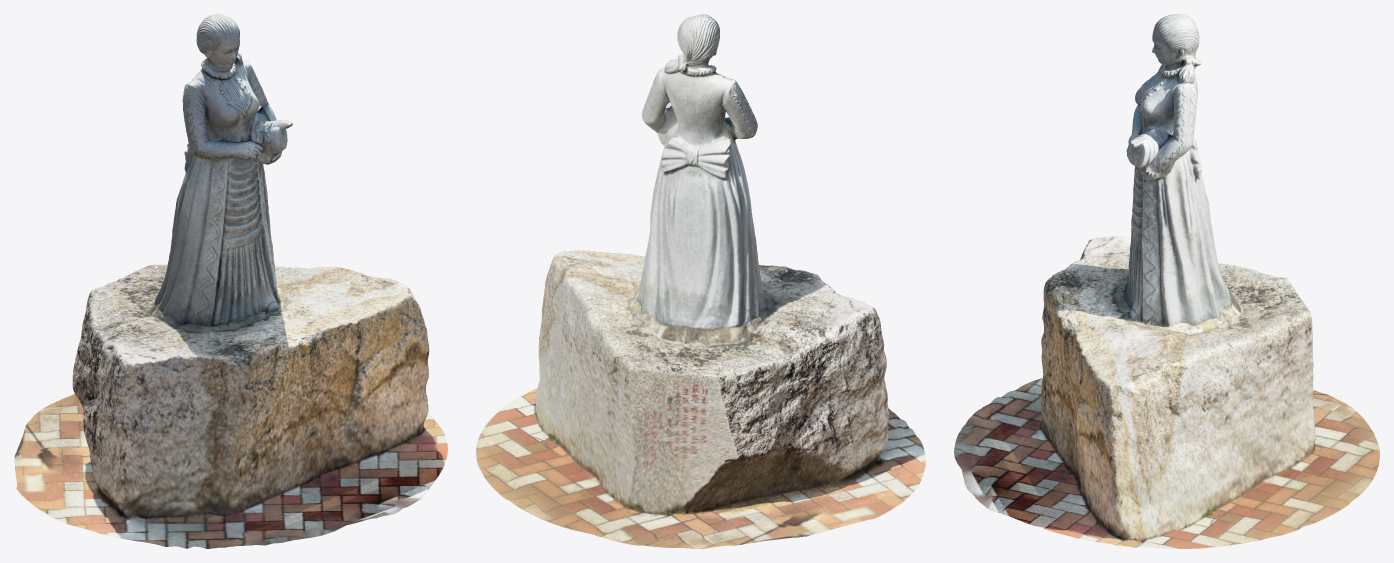
The model's file is mod.glb.
3 views of the same model, side by side, from view 1: azimuth 30°, elevation 25°; view 2: azimuth 150°, elevation 25°; view 3: azimuth 270°, elevation 25° (orthographic).
Parts seen in each view (by area): view 1: Object_2, Object_3, Object_4; view 2: Object_2, Object_3, Object_4; view 3: Object_3, Object_2, Object_4.
Boxes of the visible parts, bbox=[...] form: Object_2: bbox=[15, 25, 447, 548]; Object_3: bbox=[41, 14, 437, 548]; Object_4: bbox=[14, 20, 400, 540]; Object_2: bbox=[476, 26, 909, 548]; Object_3: bbox=[480, 14, 925, 539]; Object_4: bbox=[494, 14, 925, 548]; Object_3: bbox=[968, 14, 1379, 548]; Object_2: bbox=[954, 39, 1379, 548]; Object_4: bbox=[1041, 14, 1377, 514].
Bounding box in the file's own units: 2.31 × 2.5 × 2.19.
Materials: 1 (1 with a texture image).
